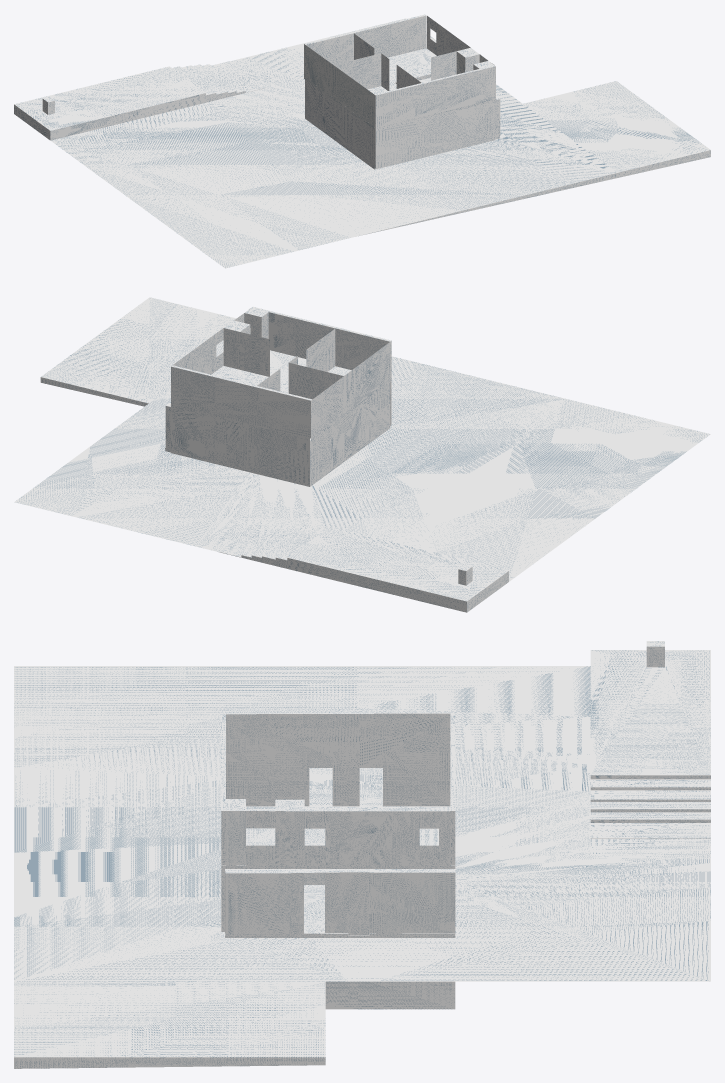
The model's file is the_last_round_maison_PROTOTYPE_SANS_MEUBLE_V4.dae.
The picture shows the model from 3 angles, top to bottom: view 1: azimuth 30°, elevation 25°; view 2: azimuth 150°, elevation 25°; view 3: azimuth 270°, elevation 25°; orthographic projection. The views are drawn at different scales.
Parts seen in each view (by area): view 1: SketchUp (×2); view 2: SketchUp (×2); view 3: SketchUp (×2).
Part boxes in pixels (bbox=[...]): SketchUp (×2): bbox=[14, 14, 710, 268]; SketchUp (×2): bbox=[14, 297, 710, 612]; SketchUp (×2): bbox=[14, 650, 710, 1068].
Bounding box in the file's own units: 477291 × 359381 × 112710.
